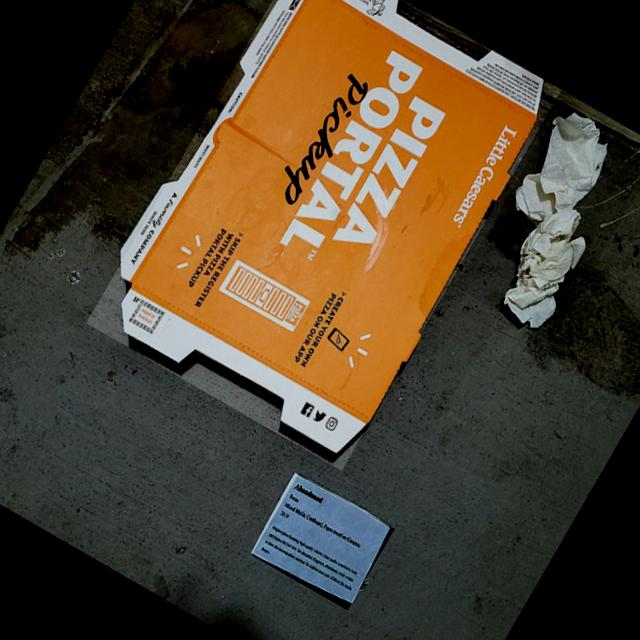Food Carton: (85, 0, 561, 471)
Paper bag: (455, 107, 640, 342), (251, 474, 394, 611)
